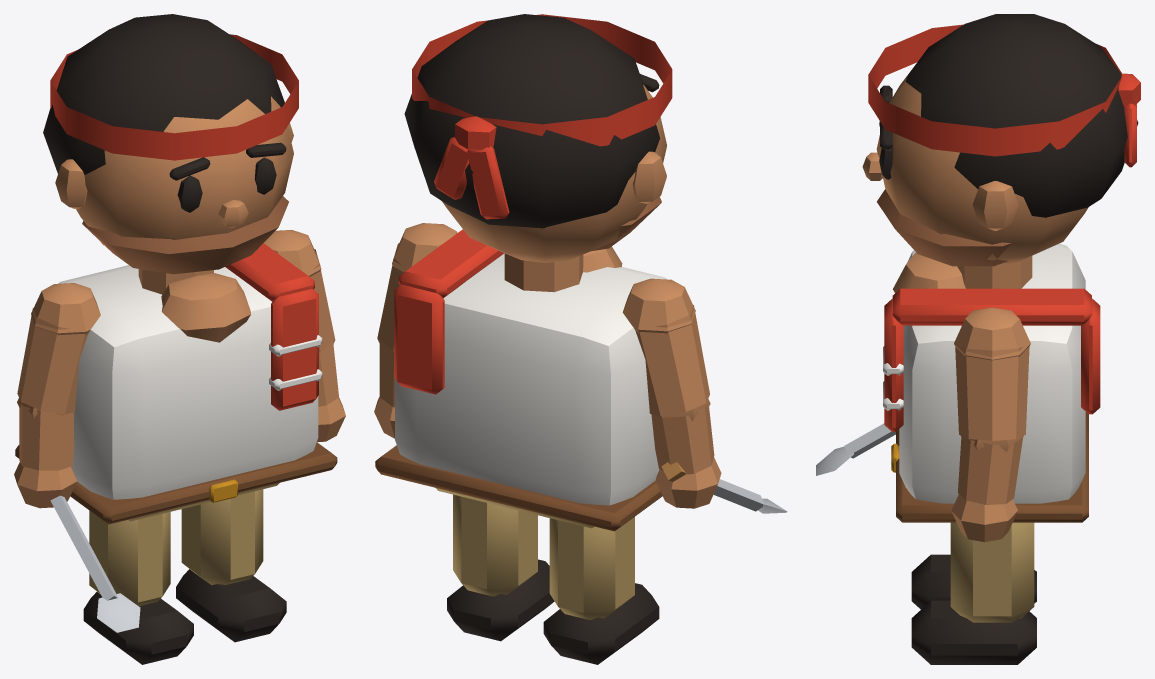
The model's file is bhurji_wala.glb.
The picture shows the model from 3 angles, left to right: view 1: azimuth 30°, elevation 25°; view 2: azimuth 150°, elevation 25°; view 3: azimuth 270°, elevation 25°; orthographic projection. The views are drawn at different scales.
Visible parts, largest first — view 1: body, head, arm_r, leg_l, leg_r, arm_l; view 2: body, head, arm_r, leg_r, leg_l, arm_l; view 3: head, body, arm_l, leg_l, leg_r, arm_r.
Part boxes in pixels (left/top/right/bottom): body: left=15, top=243, right=337, bottom=524; head: left=43, top=14, right=298, bottom=274; arm_r: left=14, top=283, right=140, bottom=632; leg_l: left=176, top=489, right=286, bottom=642; leg_r: left=83, top=510, right=193, bottom=664; arm_l: left=264, top=230, right=345, bottom=442; body: left=375, top=229, right=667, bottom=531; head: left=404, top=14, right=672, bottom=262; arm_r: left=622, top=278, right=787, bottom=513; leg_r: left=543, top=517, right=659, bottom=664; leg_l: left=447, top=494, right=554, bottom=641; arm_l: left=374, top=223, right=457, bottom=438; head: left=862, top=14, right=1140, bottom=266; body: left=883, top=243, right=1100, bottom=522; arm_l: left=951, top=307, right=1030, bottom=542; leg_l: left=911, top=522, right=1036, bottom=664; leg_r: left=911, top=554, right=1036, bottom=609; arm_r: left=816, top=423, right=895, bottom=475.
Bounding box in the file's own units: 0.598 × 1.04 × 0.5052.
Materials: 1 (1 with a texture image).
